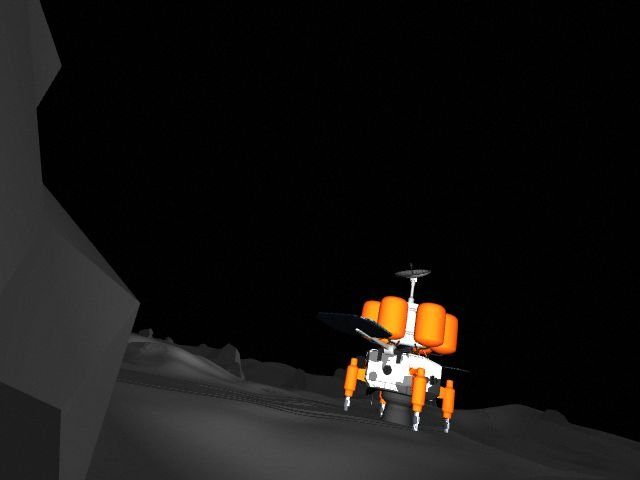homebase: (326, 258, 472, 437)
